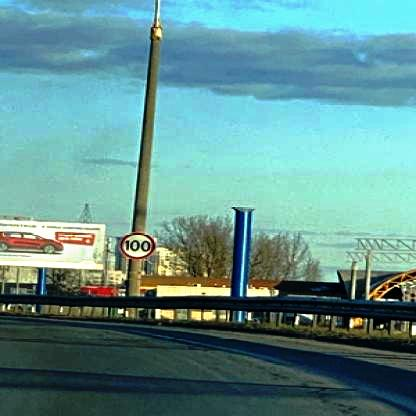Speed Limit -100-: (121, 230, 156, 262)
